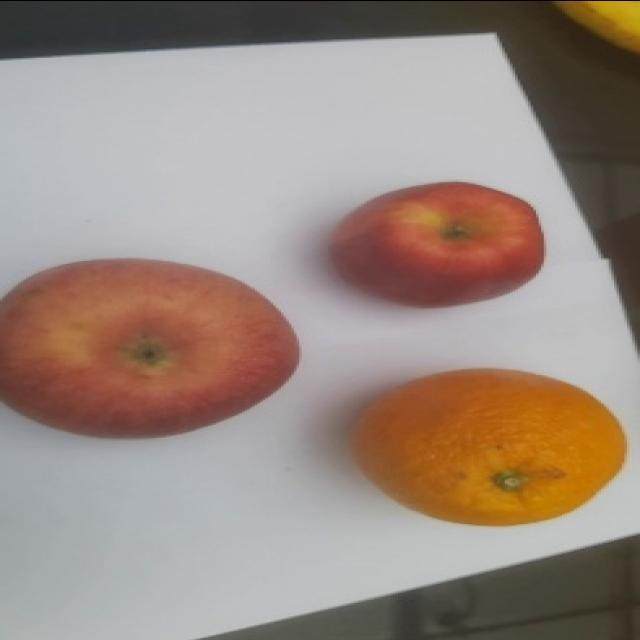Apple: (0, 256, 300, 438), (329, 180, 545, 308)
Banana: (551, 0, 639, 54)
Orange: (350, 366, 627, 527)
